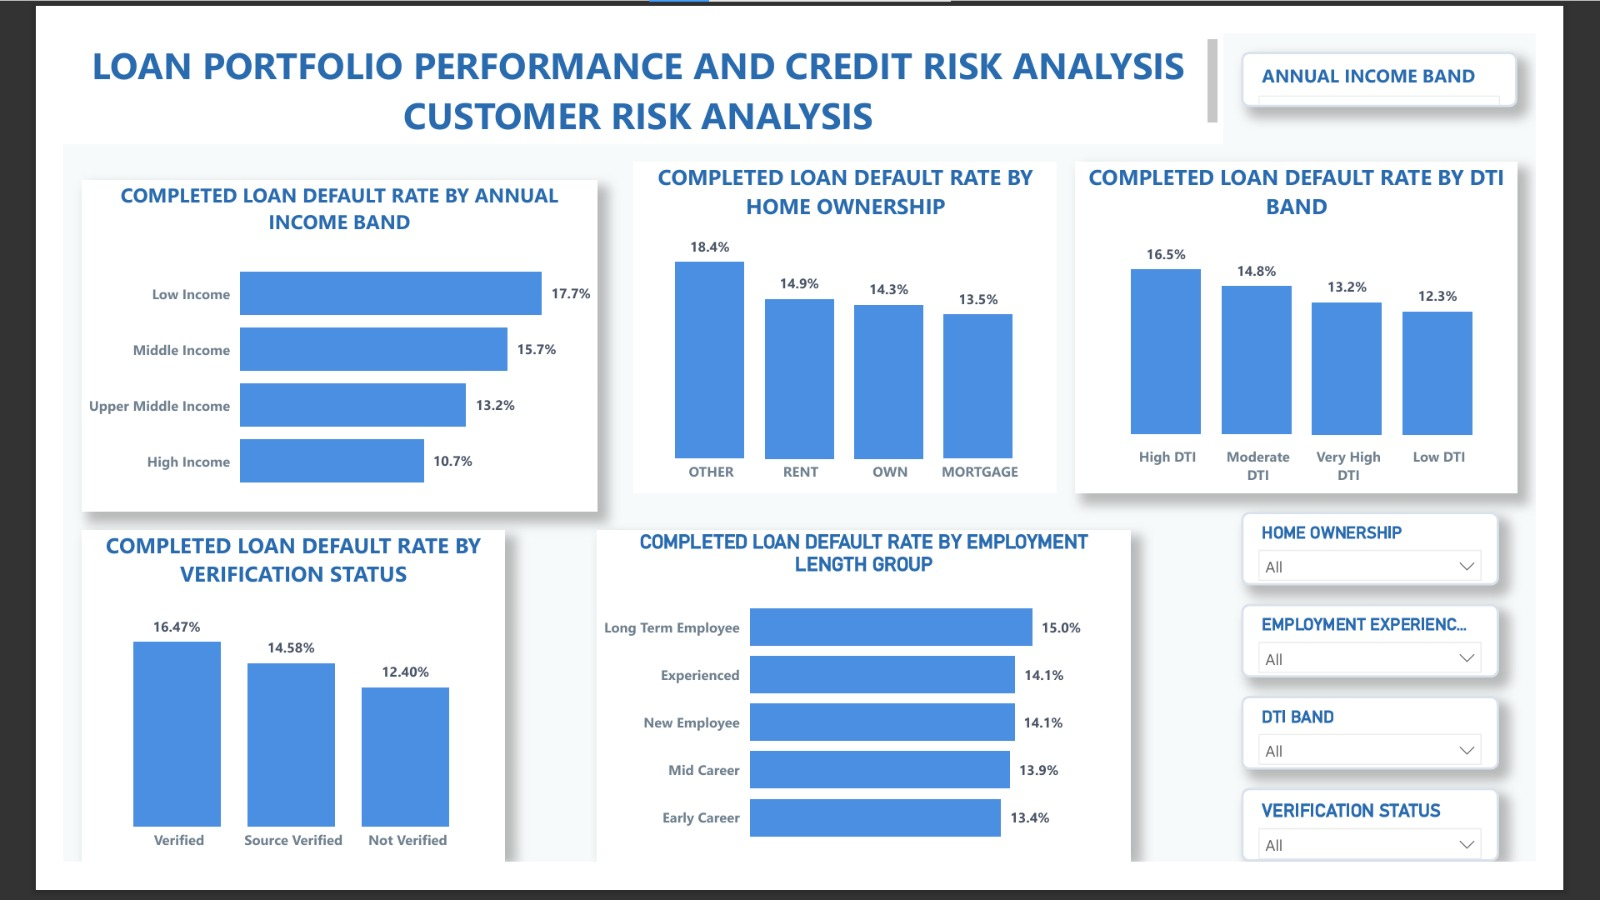

This screenshot's page, from the dashboard's own definition file:
{"tool":"powerbi","page":{"name":"Page 2","canvas":[1280,720],"ordinal":1},"visuals":[{"type":"clusteredBarChart","title":"COMPLETED LOAN DEFAULT RATE BY ANNUAL INCOME BAND","fields":{"Y":["_MEASURES.COMPLETED LOAN DEFAULT RATE"],"Category":["financial_loan_cleaned.Annual_Income_Band"]},"box":[15.7,112.2,448.8,288.3],"z":0},{"type":"clusteredBarChart","title":"COMPLETED LOAN DEFAULT RATE BY EMPLOYMENT LENGTH GROUP","fields":{"Y":["_MEASURES.COMPLETED LOAN DEFAULT RATE"],"Category":["financial_loan_cleaned.Empt_Lgth_Experience_Group"]},"box":[464,432,464,272],"z":1000},{"type":"clusteredColumnChart","title":"COMPLETED LOAN DEFAULT RATE BY HOME OWNERSHIP","fields":{"Category":["financial_loan_cleaned.home_ownership"],"Y":["_MEASURES.COMPLETED LOAN DEFAULT RATE"]},"box":[495.8,112.2,368,288.3],"z":2000},{"type":"clusteredColumnChart","title":"COMPLETED LOAN DEFAULT RATE BY VERIFICATION STATUS","fields":{"Y":["_MEASURES.COMPLETED LOAN DEFAULT RATE"],"Category":["financial_loan_cleaned.verification_status"]},"box":[15.7,431.9,387.3,272.7],"z":3000},{"type":"clusteredColumnChart","title":"COMPLETED LOAN DEFAULT RATE BY DTI BAND","fields":{"Category":["financial_loan_cleaned.DTI_Band"],"Y":["_MEASURES.COMPLETED LOAN DEFAULT RATE"]},"box":[879.5,112.2,384.9,288.3],"z":4000},{"type":"textbox","box":[0,0,1008,96],"z":5000},{"type":"slicer","fields":{"Values":["financial_loan_cleaned.home_ownership"]},"box":[1024,416,224,64],"z":6000},{"type":"slicer","fields":{"Values":["financial_loan_cleaned.Empt_Lgth_Experience_Group","financial_loan_cleaned.DTI_Band"]},"box":[1024.3,491,224,64],"z":7000},{"type":"slicer","fields":{"Values":["financial_loan_cleaned.DTI_Band"]},"box":[1025.5,568.2,224,64],"z":8000},{"type":"slicer","fields":{"Values":["financial_loan_cleaned.Annual_Income_Band"]},"box":[1024.3,0,255.8,70],"z":9000},{"type":"slicer","fields":{"Values":["financial_loan_cleaned.verification_status"]},"box":[1024,640,224,64],"z":10000}]}

Visuals, with their boxes in screenshot pixels (x1, y1, x2, y2), scaled from the page's 1280x720 canvas onto the 1600x900 screenshot:
"COMPLETED LOAN DEFAULT RATE BY ANNUAL INCOME BAND" clusteredBarChart: locate(20, 140, 581, 501)
"COMPLETED LOAN DEFAULT RATE BY EMPLOYMENT LENGTH GROUP" clusteredBarChart: locate(580, 540, 1160, 880)
"COMPLETED LOAN DEFAULT RATE BY HOME OWNERSHIP" clusteredColumnChart: locate(620, 140, 1080, 501)
"COMPLETED LOAN DEFAULT RATE BY VERIFICATION STATUS" clusteredColumnChart: locate(20, 540, 504, 881)
"COMPLETED LOAN DEFAULT RATE BY DTI BAND" clusteredColumnChart: locate(1099, 140, 1580, 501)
textbox: locate(0, 0, 1260, 120)
slicer - financial_loan_cleaned.home_ownership: locate(1280, 520, 1560, 600)
slicer - financial_loan_cleaned.Empt_Lgth_Experience_Group x financial_loan_cleaned.DTI_Band: locate(1280, 614, 1560, 694)
slicer - financial_loan_cleaned.DTI_Band: locate(1282, 710, 1562, 790)
slicer - financial_loan_cleaned.Annual_Income_Band: locate(1280, 0, 1599, 88)
slicer - financial_loan_cleaned.verification_status: locate(1280, 800, 1560, 880)
